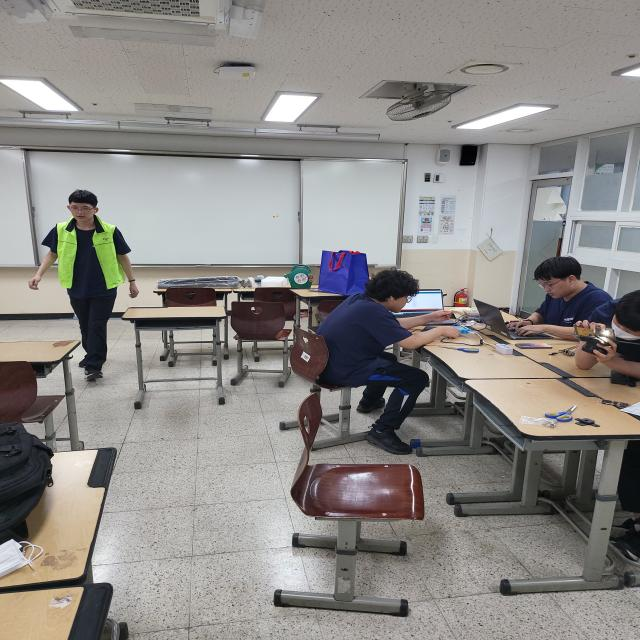weston_spy: (50, 214, 138, 311)
